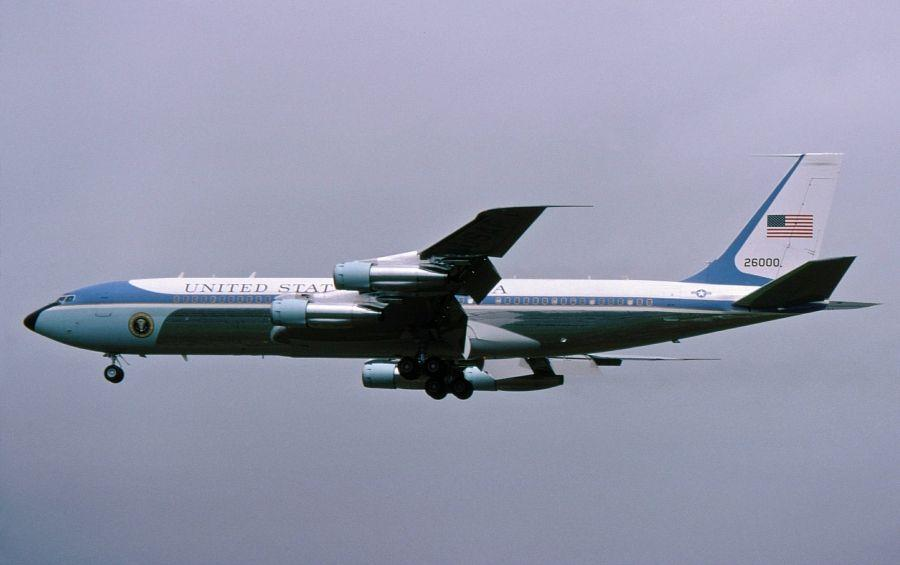airplane: (22, 148, 891, 391)
